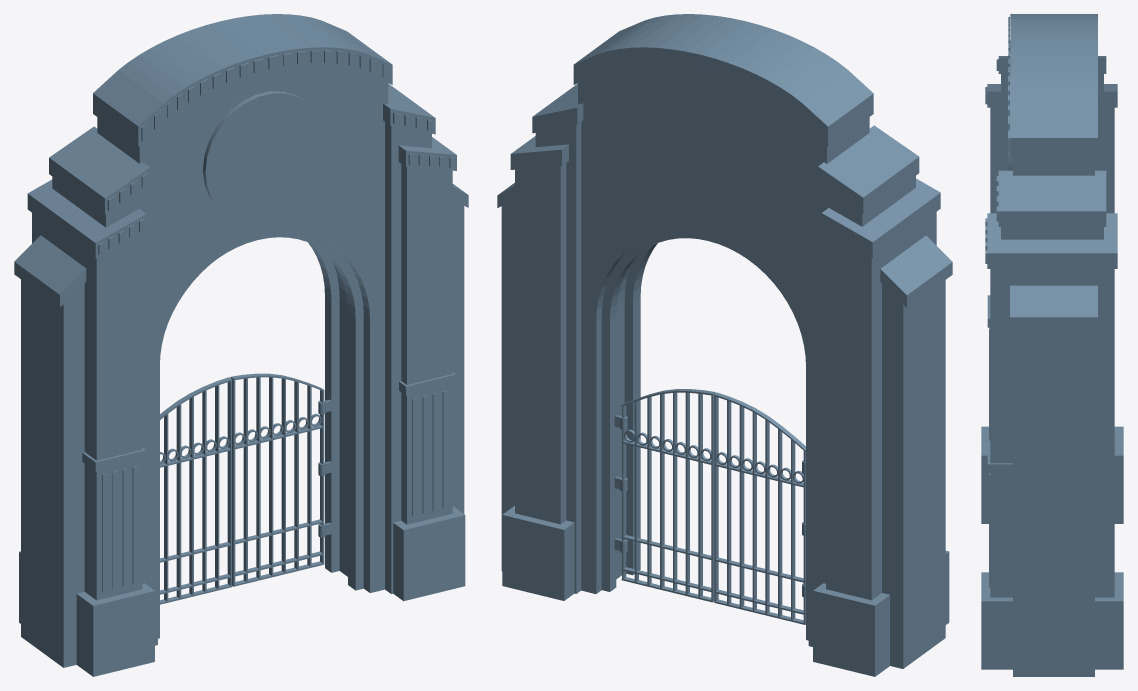
The model's file is Gateway.fbx.
3 views of the same model, side by side, from view 1: azimuth 30°, elevation 25°; view 2: azimuth 150°, elevation 25°; view 3: azimuth 270°, elevation 25° (orthographic). The views are drawn at different scales.
Visible parts, largest first — view 1: Gate, Studio_Sign, Gate_Left, Gate_Right; view 2: Gate, Gate_Right, Gate_Left; view 3: Gate, Studio_Sign.
Part boxes in pixels (box(x1,y1,x2,y2)): Gate: box(14, 14, 468, 676); Studio_Sign: box(203, 91, 325, 221); Gate_Left: box(230, 373, 324, 586); Gate_Right: box(160, 377, 232, 604); Gate: box(497, 14, 952, 676); Gate_Right: box(714, 392, 805, 624); Gate_Left: box(621, 389, 715, 602); Gate: box(981, 14, 1123, 676); Studio_Sign: box(1008, 70, 1012, 170).
Size of the model in its own units: 649 by 858 by 204.
